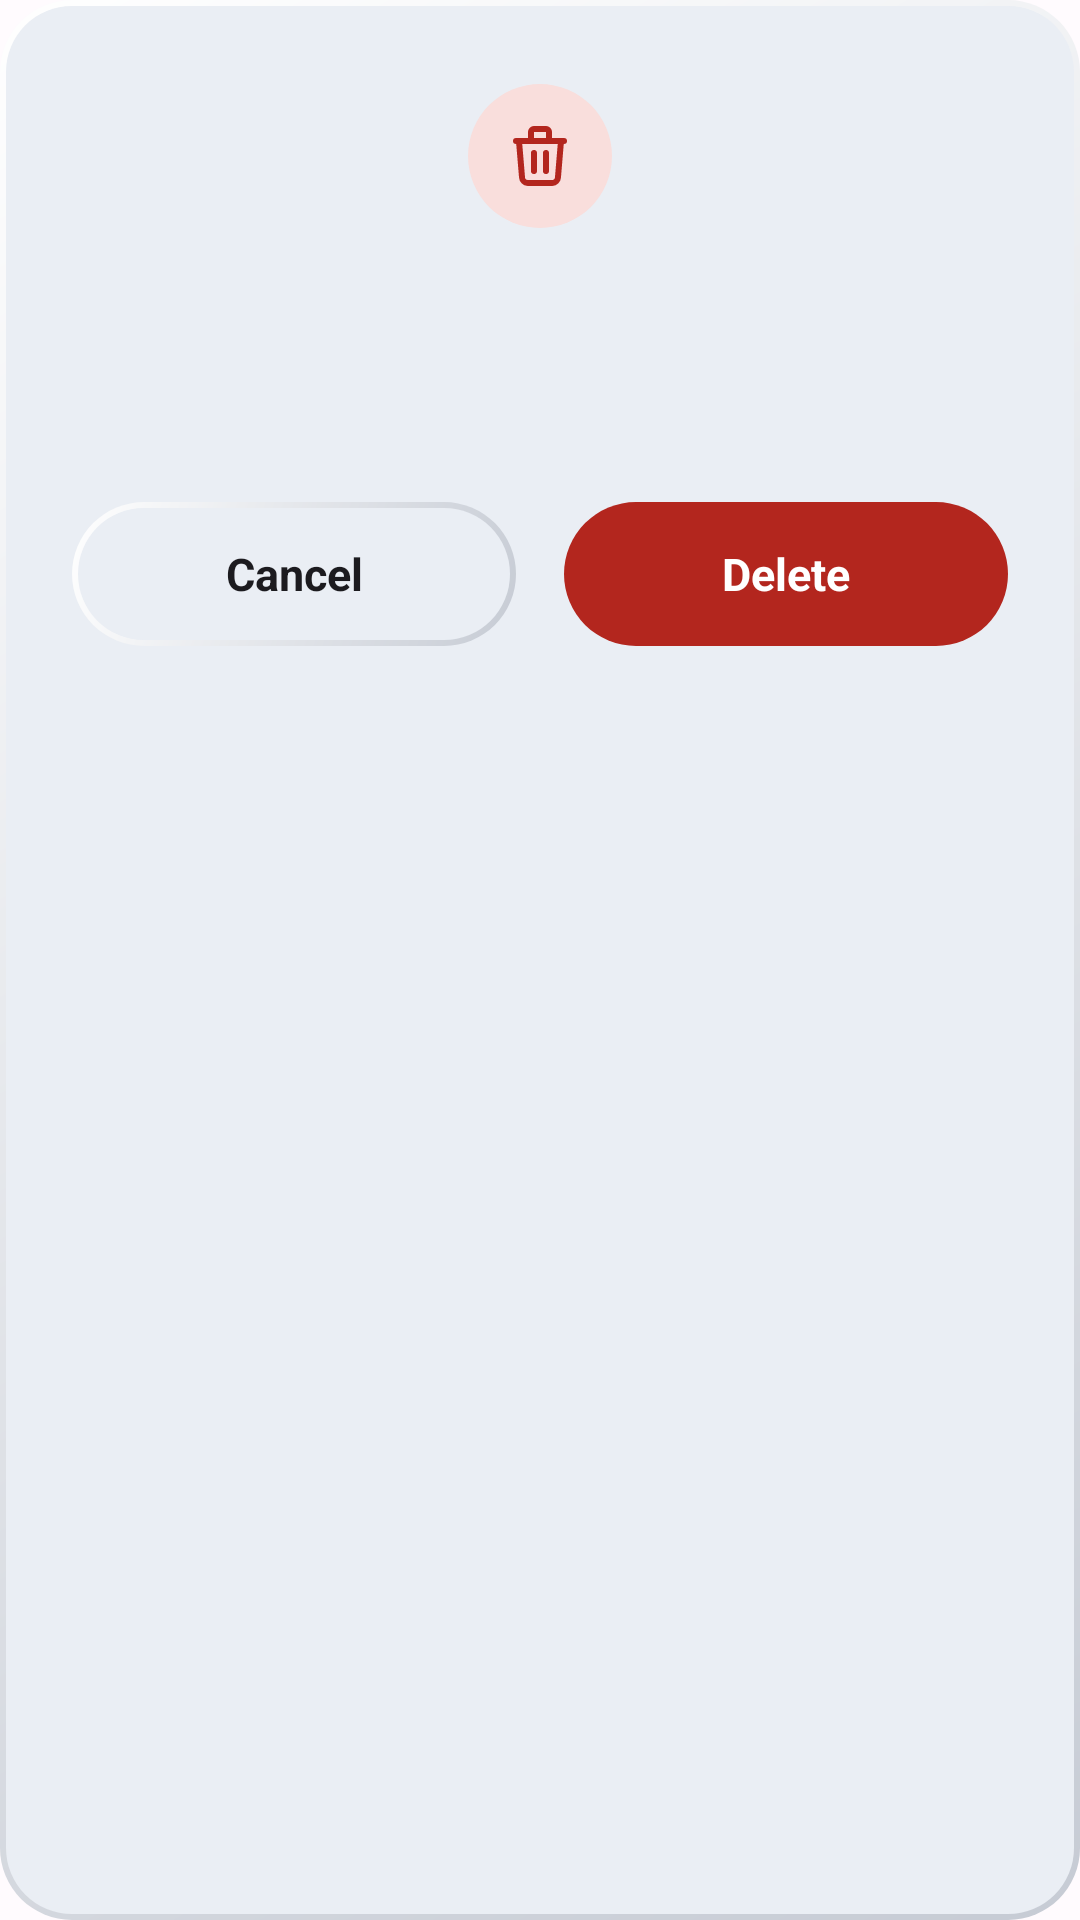

Screen size 1080*1920. Icon name, then its box in pixels as (x1, y1, x2, y2):
trash: (468, 84, 612, 228)
